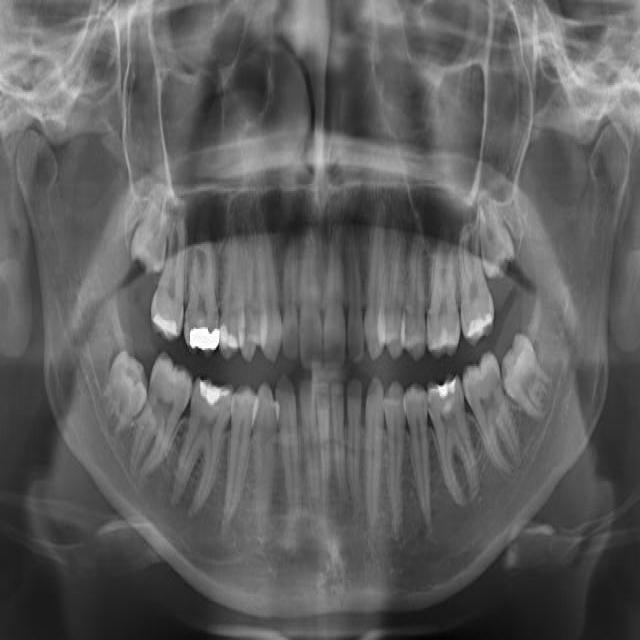dolgu: (190, 364, 232, 422), (184, 311, 223, 360), (152, 295, 184, 346), (462, 298, 498, 342), (431, 364, 462, 413)
